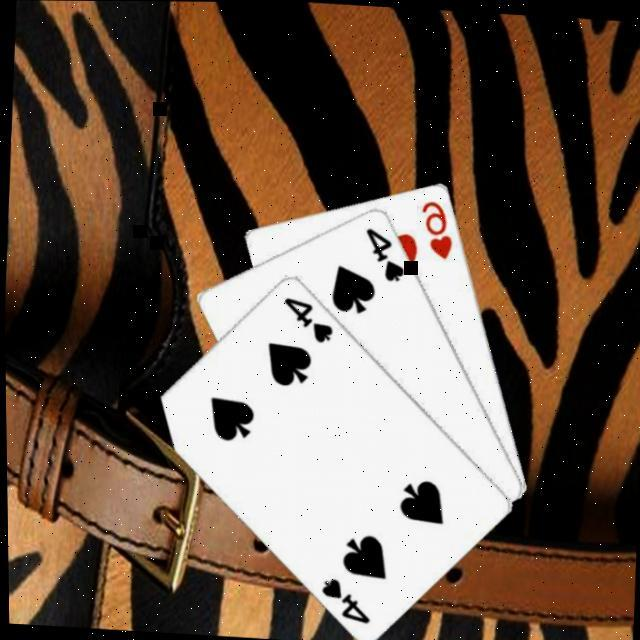4S: (276, 291, 336, 344), (314, 571, 373, 623), (359, 222, 409, 282)
6H: (415, 194, 457, 260)
